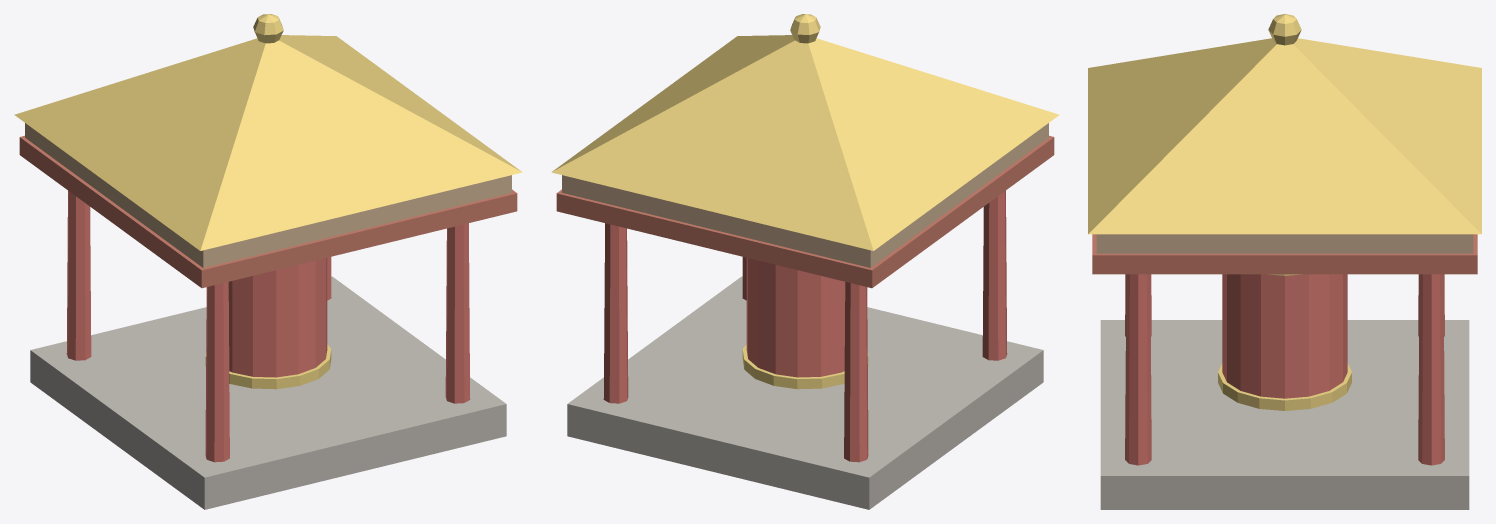
3 renders of one model, left to right at view 1: azimuth 30°, elevation 25°; view 2: azimuth 150°, elevation 25°; view 3: azimuth 270°, elevation 25°, orthographic. The views are drawn at different scales.
Parts seen in each view (by area): view 1: WB_wheelHouse; view 2: WB_wheelHouse; view 3: WB_wheelHouse.
Part boxes in pixels (<box>): WB_wheelHouse: <box>14,14,522,509</box>; WB_wheelHouse: <box>551,14,1059,509</box>; WB_wheelHouse: <box>1088,14,1481,509</box>.
Size of the model in its own units: 4.7 by 5.5 by 4.7.
